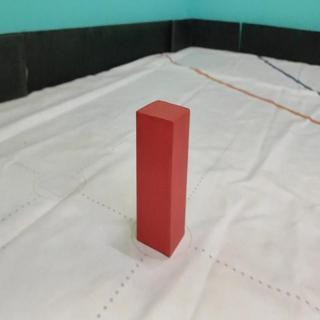redbox: (135, 98, 190, 258)
